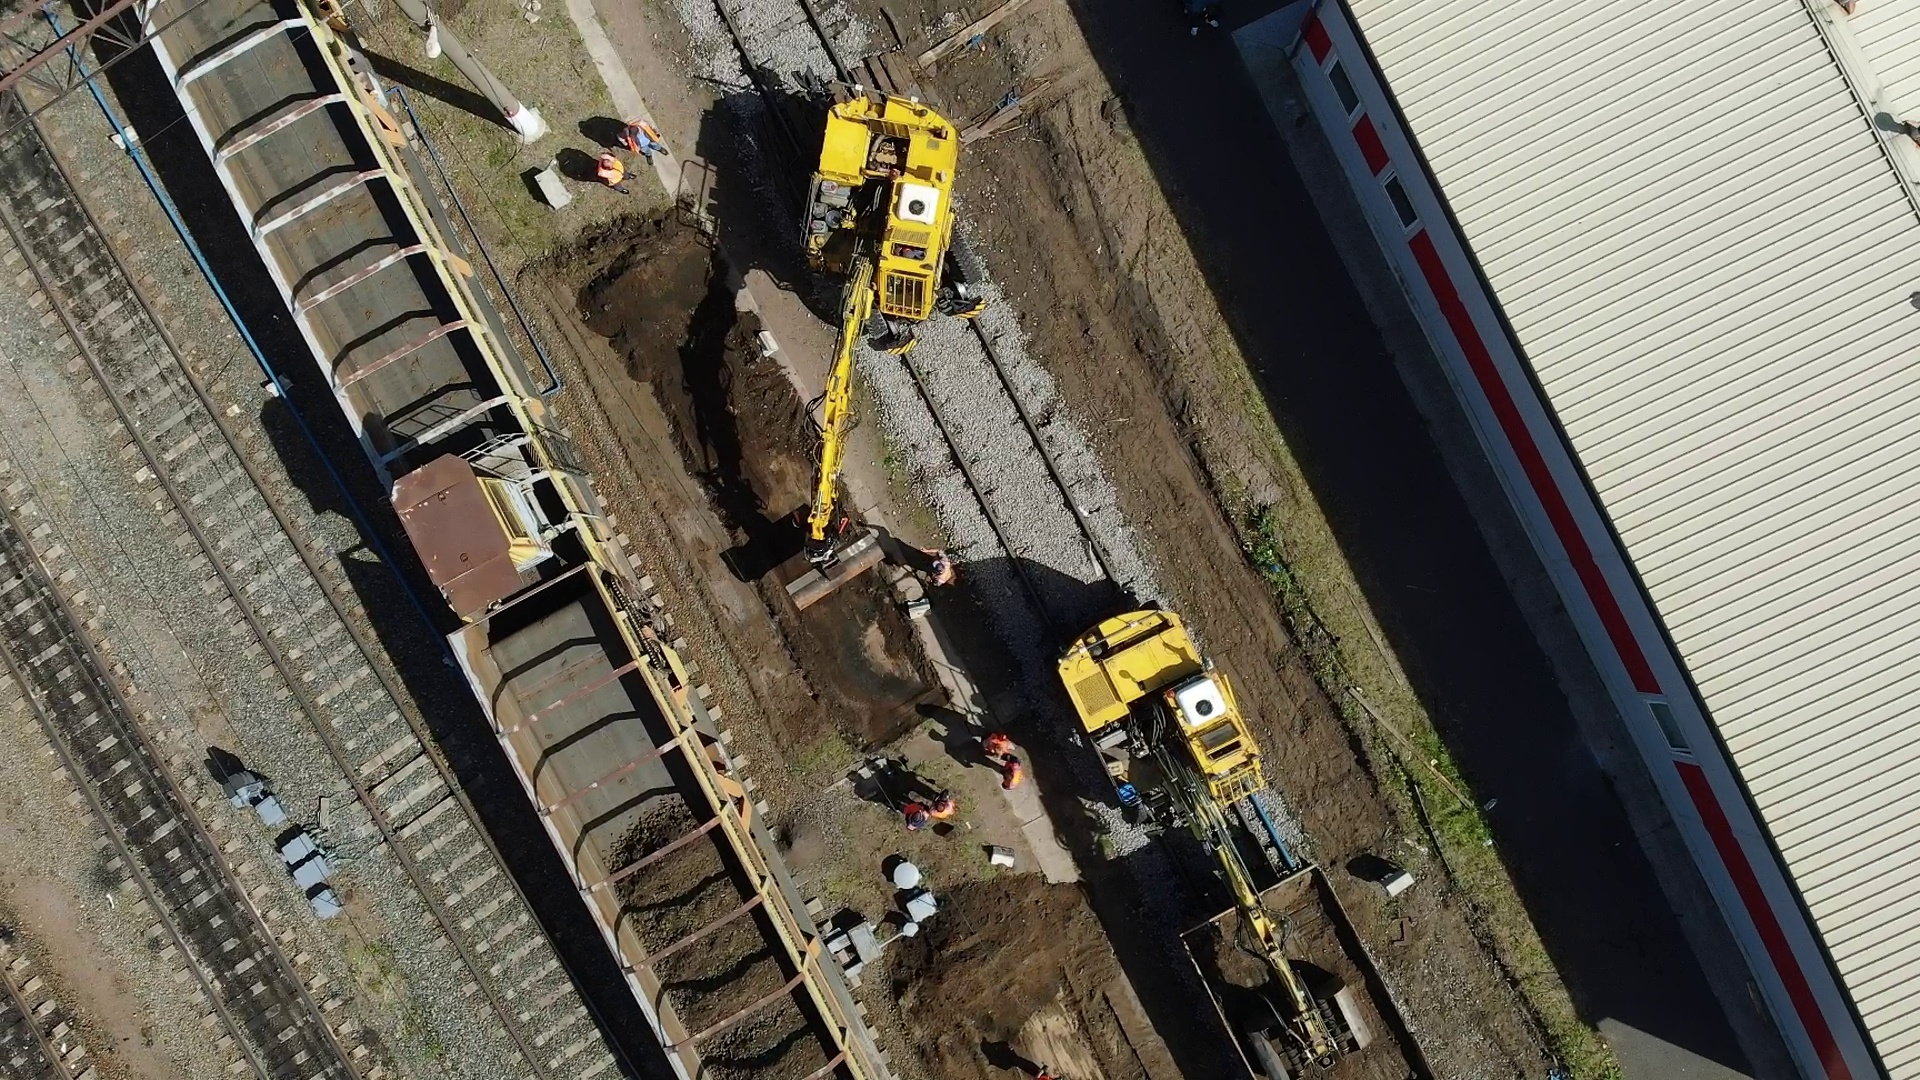kjtv: (1054, 601, 1279, 924), (795, 84, 975, 416)
